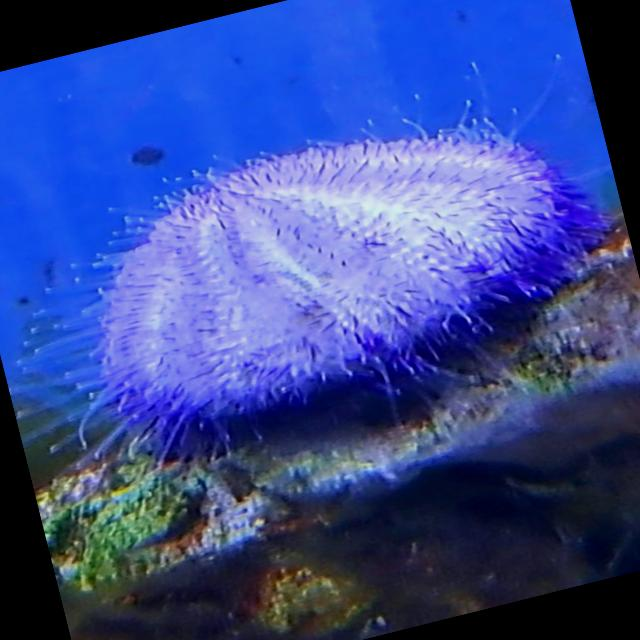Deniz Kestanesi: (21, 64, 640, 478)
